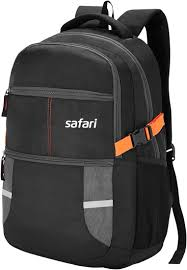backpack: (0, 0, 186, 268)
